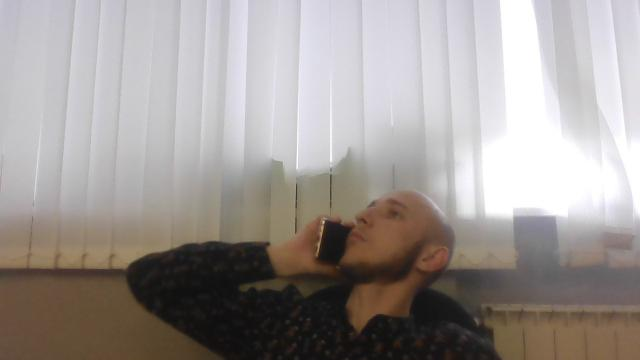Phone: (313, 214, 355, 267)
